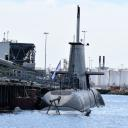submarine: (15, 8, 108, 115)
